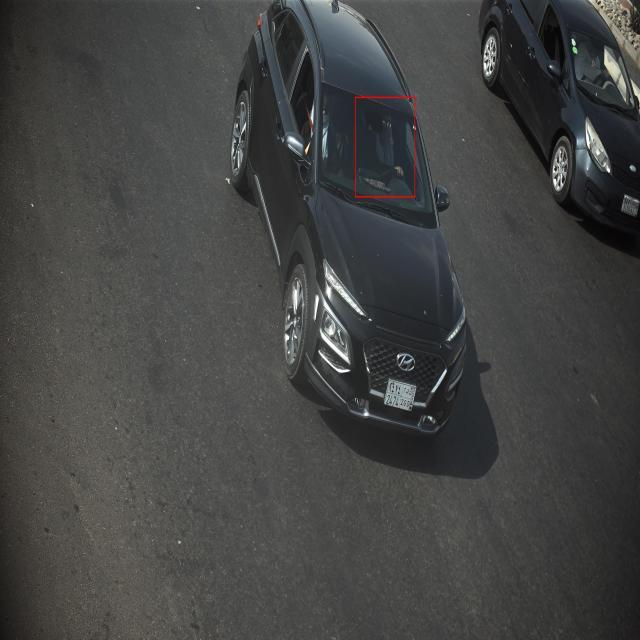windshield: (279, 72, 445, 235), (559, 27, 639, 117)
